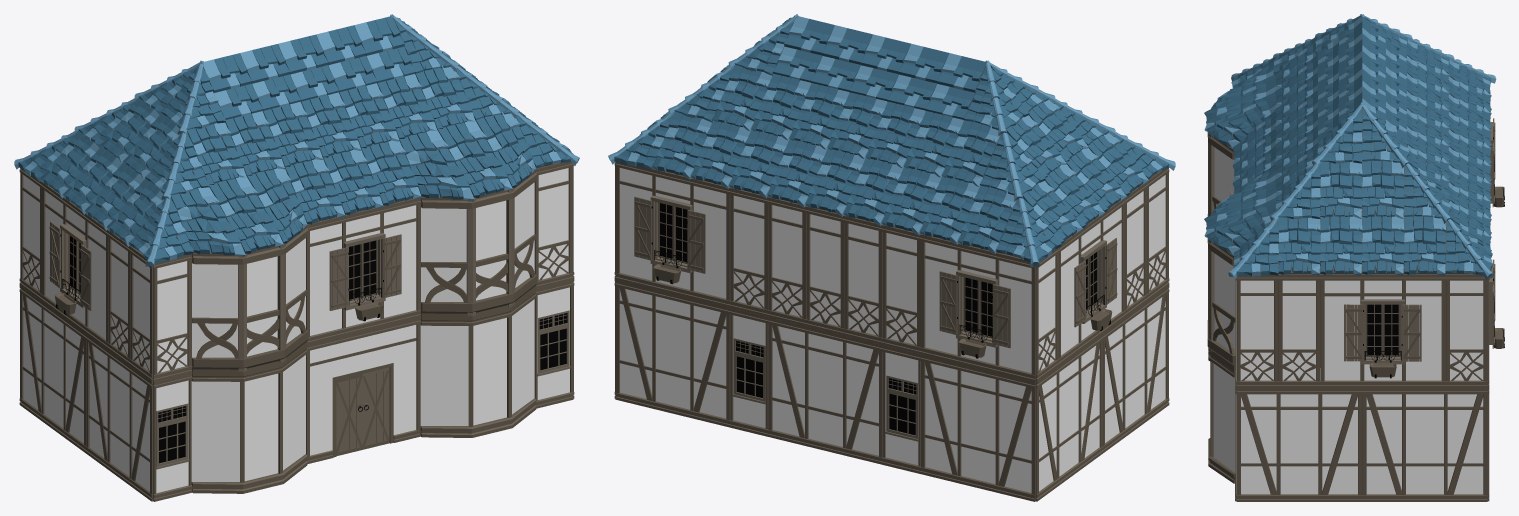
Rendered from house_14_full.fbx.
The picture shows the model from 3 angles, left to right: view 1: azimuth 30°, elevation 25°; view 2: azimuth 150°, elevation 25°; view 3: azimuth 270°, elevation 25°; orthographic projection. The views are drawn at different scales.
Parts seen in each view (by area): view 1: WINDOW_01_Balkon_2, WINDOW_01_Balkon_3, WINDOW_05_2, DOOR_03_2, WINDOW_02_Balkon_2, WINDOW_02_Balkon_3, ROOF_base_round_3, ROOF_base_round_2, WALL_02_2, WINDOW_05_6, WALL_02_3, WALL_04_3 (+41 smaller); view 2: WINDOW_05_5, WALL_02_6, WINDOW_05_4, WALL_02_5, WALL_02_4, WALL_02_3, WINDOW_05_6, WALL_02_2, WALL_04_11, WALL_04_9, WALL_04_12, WALL_04_10 (+47 smaller); view 3: WALL_02_8, WINDOW_05_3, WALL_02_7, WALL_04_14, WALL_04_15, WALL_04_13, ROOF_base_round_3, ROOF_base_round_2, WINDOW_02_Balkon_3, WINDOW_01_Balkon_3, ROOF_base_14, ROOF_base_17 (+65 smaller).
Boxes of the visible parts, <box> form: WINDOW_01_Balkon_2: <box>191,346,307,493</box>; WINDOW_01_Balkon_3: <box>420,290,536,437</box>; WINDOW_05_2: <box>306,198,421,344</box>; DOOR_03_2: <box>306,317,420,464</box>; WINDOW_02_Balkon_2: <box>191,226,307,373</box>; WINDOW_02_Balkon_3: <box>420,170,536,317</box>; ROOF_base_round_3: <box>399,112,536,200</box>; ROOF_base_round_2: <box>171,168,307,256</box>; WALL_02_2: <box>85,334,153,501</box>; WINDOW_05_6: <box>41,181,108,349</box>; WALL_02_3: <box>19,285,86,452</box>; WALL_04_3: <box>534,162,573,288</box>; WINDOW_05_5: <box>920,234,1035,381</box>; WALL_02_6: <box>615,280,730,427</box>; WINDOW_05_4: <box>615,161,730,307</box>; WALL_02_5: <box>767,317,882,464</box>; WALL_02_4: <box>920,354,1035,501</box>; WALL_02_3: <box>1035,334,1103,501</box>; WINDOW_05_6: <box>1058,199,1125,365</box>; WALL_02_2: <box>1102,285,1169,452</box>; WALL_04_11: <box>767,196,806,326</box>; WALL_04_9: <box>844,215,882,344</box>; WALL_04_12: <box>729,187,768,316</box>; WALL_04_10: <box>806,206,844,335</box>; WALL_02_8: <box>1236,388,1362,501</box>; WINDOW_05_3: <box>1320,274,1445,388</box>; WALL_02_7: <box>1362,388,1487,501</box>; WALL_04_14: <box>1278,274,1320,388</box>; WALL_04_15: <box>1236,274,1278,388</box>; WALL_04_13: <box>1446,274,1487,388</box>; ROOF_base_round_3: <box>1204,164,1276,255</box>; ROOF_base_round_2: <box>1204,58,1276,149</box>; WINDOW_02_Balkon_3: <box>1207,238,1235,369</box>; WINDOW_01_Balkon_3: <box>1208,353,1235,483</box>; ROOF_base_14: <box>1320,215,1362,275</box>; ROOF_base_17: <box>1362,215,1404,275</box>.
Size of the model in its own units: 1182 by 912 by 719.
